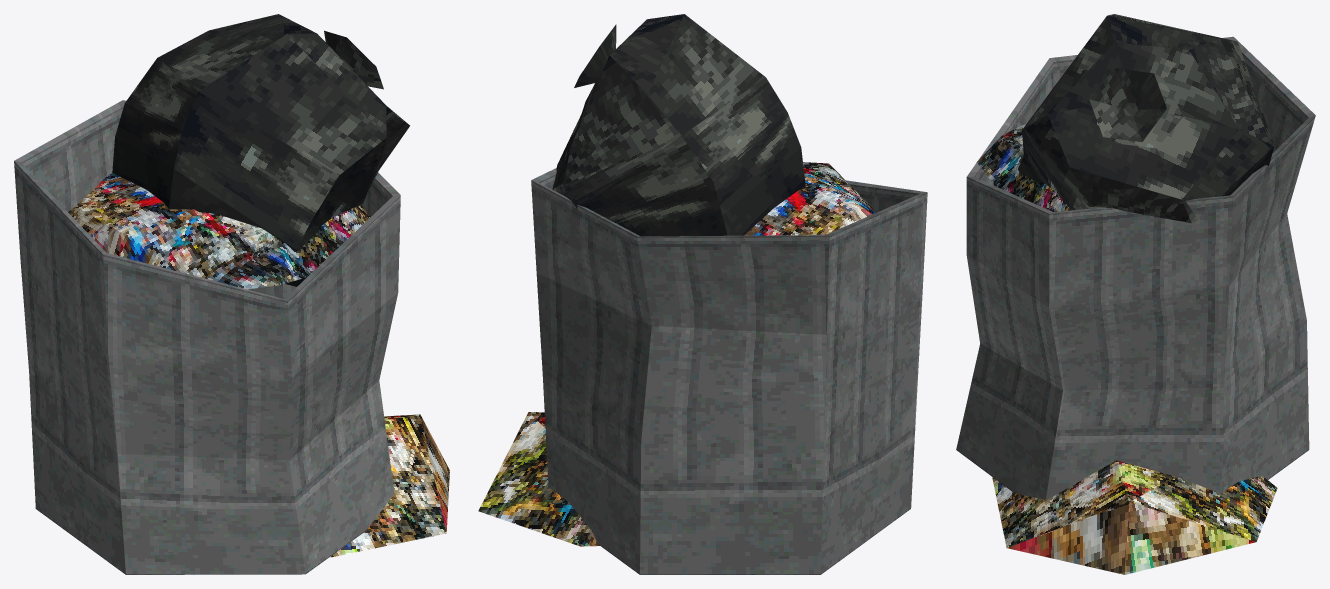
Rendered from metaltrashcan_beaten_overflowing.glb.
3 views of the same model, side by side, from view 1: azimuth 30°, elevation 25°; view 2: azimuth 150°, elevation 25°; view 3: azimuth 270°, elevation 25° (orthographic).
Visible parts, largest first — view 1: metaltrashcan_beaten_overflowing; view 2: metaltrashcan_beaten_overflowing; view 3: metaltrashcan_beaten_overflowing.
Boxes of the visible parts, x1,y1,x2,y2 form: metaltrashcan_beaten_overflowing: (14,14,449,574); metaltrashcan_beaten_overflowing: (478,14,927,574); metaltrashcan_beaten_overflowing: (956,14,1315,574).
Bounding box in the file's own units: 0.9401 × 1.17 × 0.7736.
Materials: 4 (4 with a texture image).
